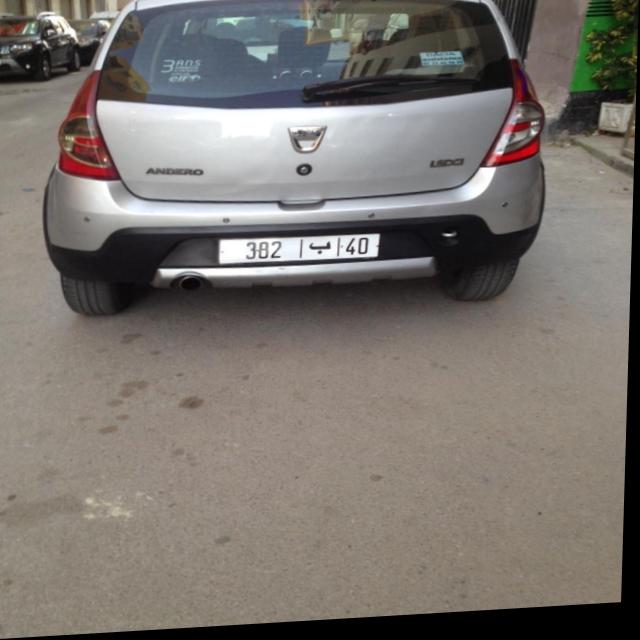License-Plate: (220, 238, 382, 267)
